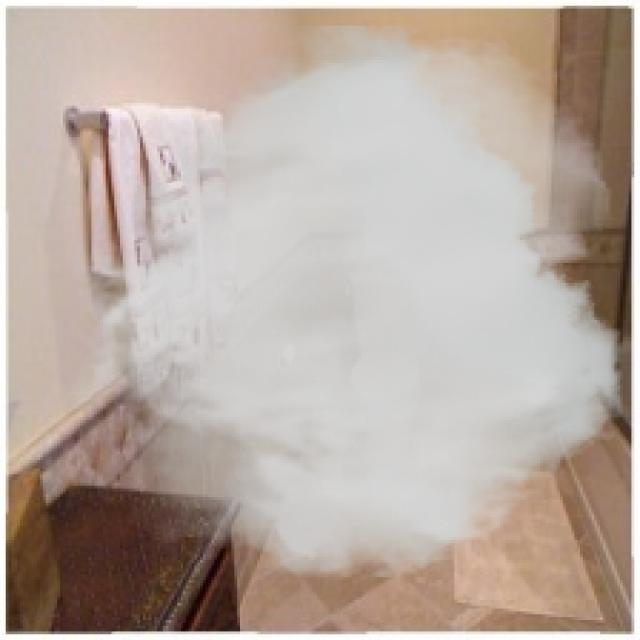Smoke: (60, 26, 623, 586)
